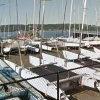Boat: (27, 48, 99, 90)
